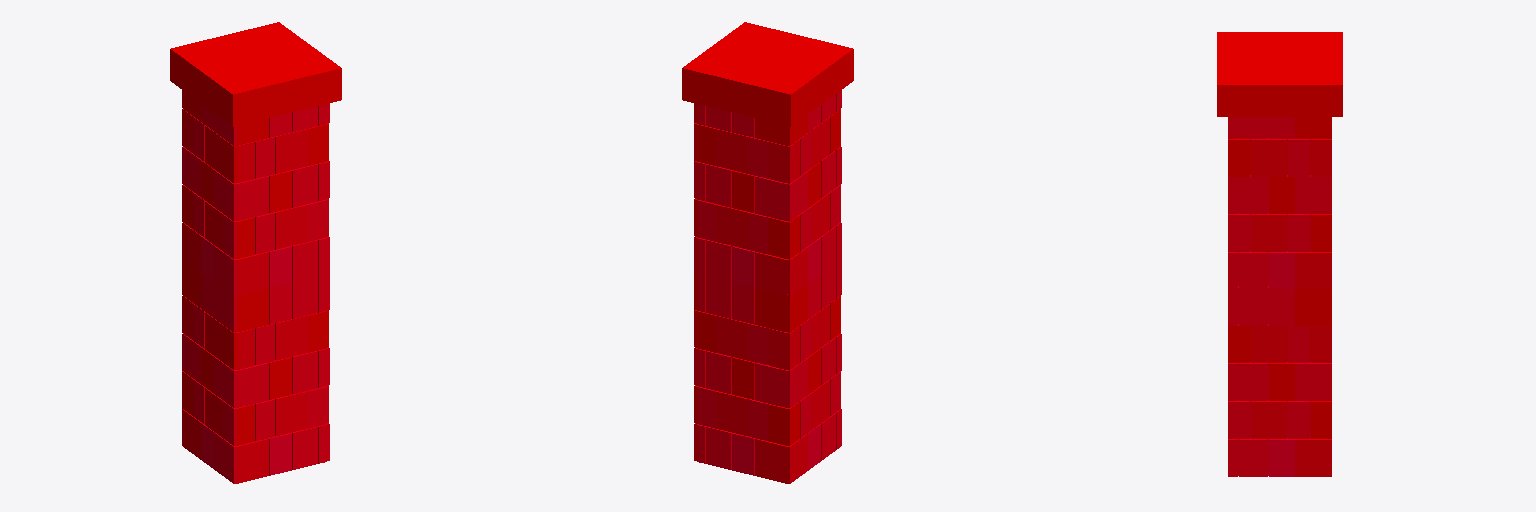
Rendered from brickPillar.obj.
3 renders of one model, left to right at view 1: azimuth 30°, elevation 25°; view 2: azimuth 150°, elevation 25°; view 3: azimuth 270°, elevation 25°, orthographic.
Parts seen in each view (by area): view 1: BrickHalfPillar.001_Cube.066; view 2: BrickHalfPillar.001_Cube.066; view 3: BrickHalfPillar.001_Cube.066.
Boxes of the visible parts, x1,y1,x2,y2 form: BrickHalfPillar.001_Cube.066: [170, 22, 341, 483]; BrickHalfPillar.001_Cube.066: [682, 22, 853, 483]; BrickHalfPillar.001_Cube.066: [1217, 32, 1342, 476].
Bounding box in the file's own units: 0.3035 × 1.05 × 0.3035.